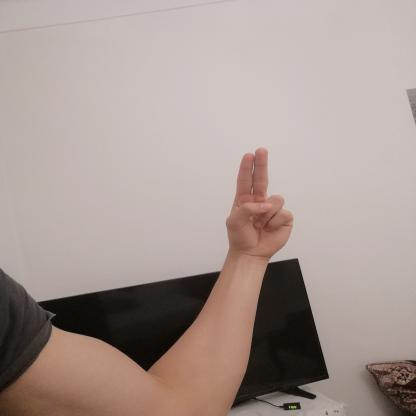TA: (216, 140, 303, 264)
